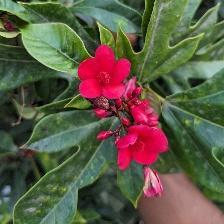jatropha: (78, 41, 131, 104)
